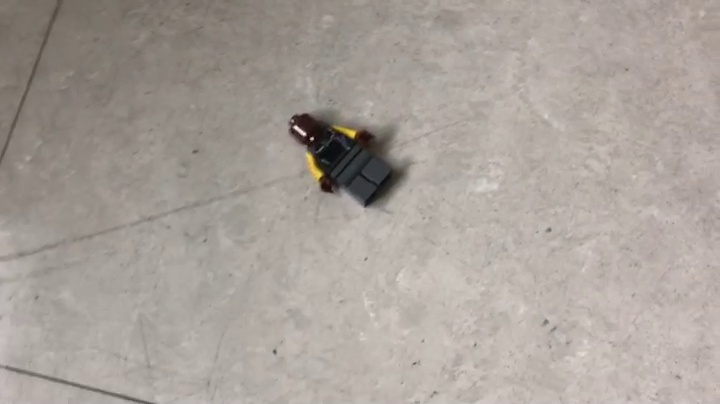people: (287, 112, 396, 208)
